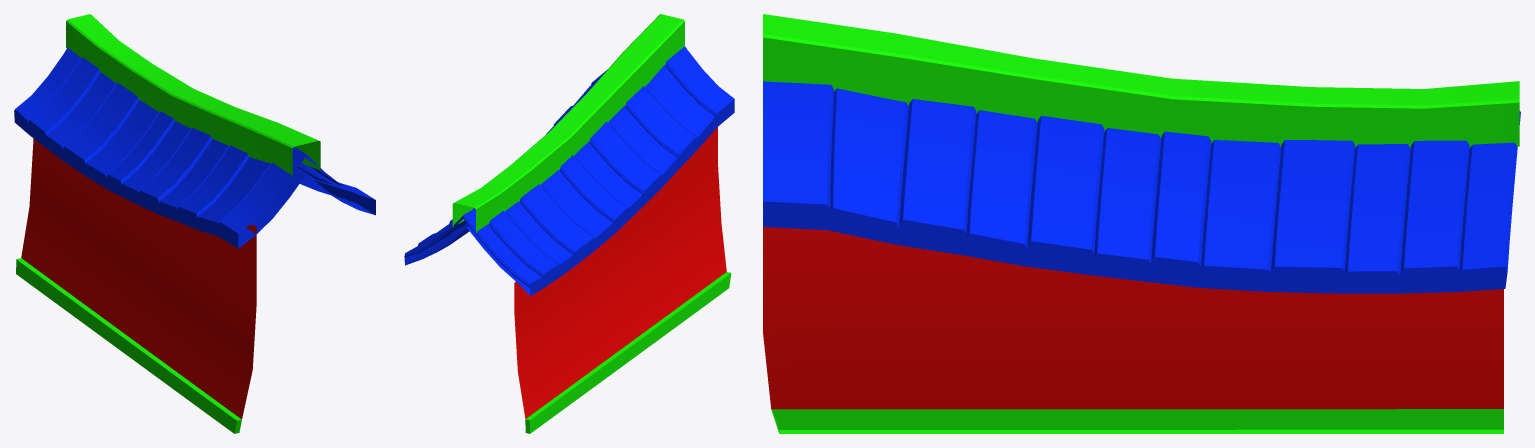
File: Wall_L.fbx
3 views of the same model, side by side, from view 1: azimuth 30°, elevation 25°; view 2: azimuth 150°, elevation 25°; view 3: azimuth 270°, elevation 25° (orthographic). The views are drawn at different scales.
Parts seen in each view (by area): view 1: Wall_L; view 2: Wall_L; view 3: Wall_L.
Part boxes in pixels (bbox=[...]): Wall_L: bbox=[14, 14, 375, 433]; Wall_L: bbox=[404, 14, 734, 433]; Wall_L: bbox=[763, 14, 1520, 433].
Size of the model in its own units: 214 by 412 by 614.
